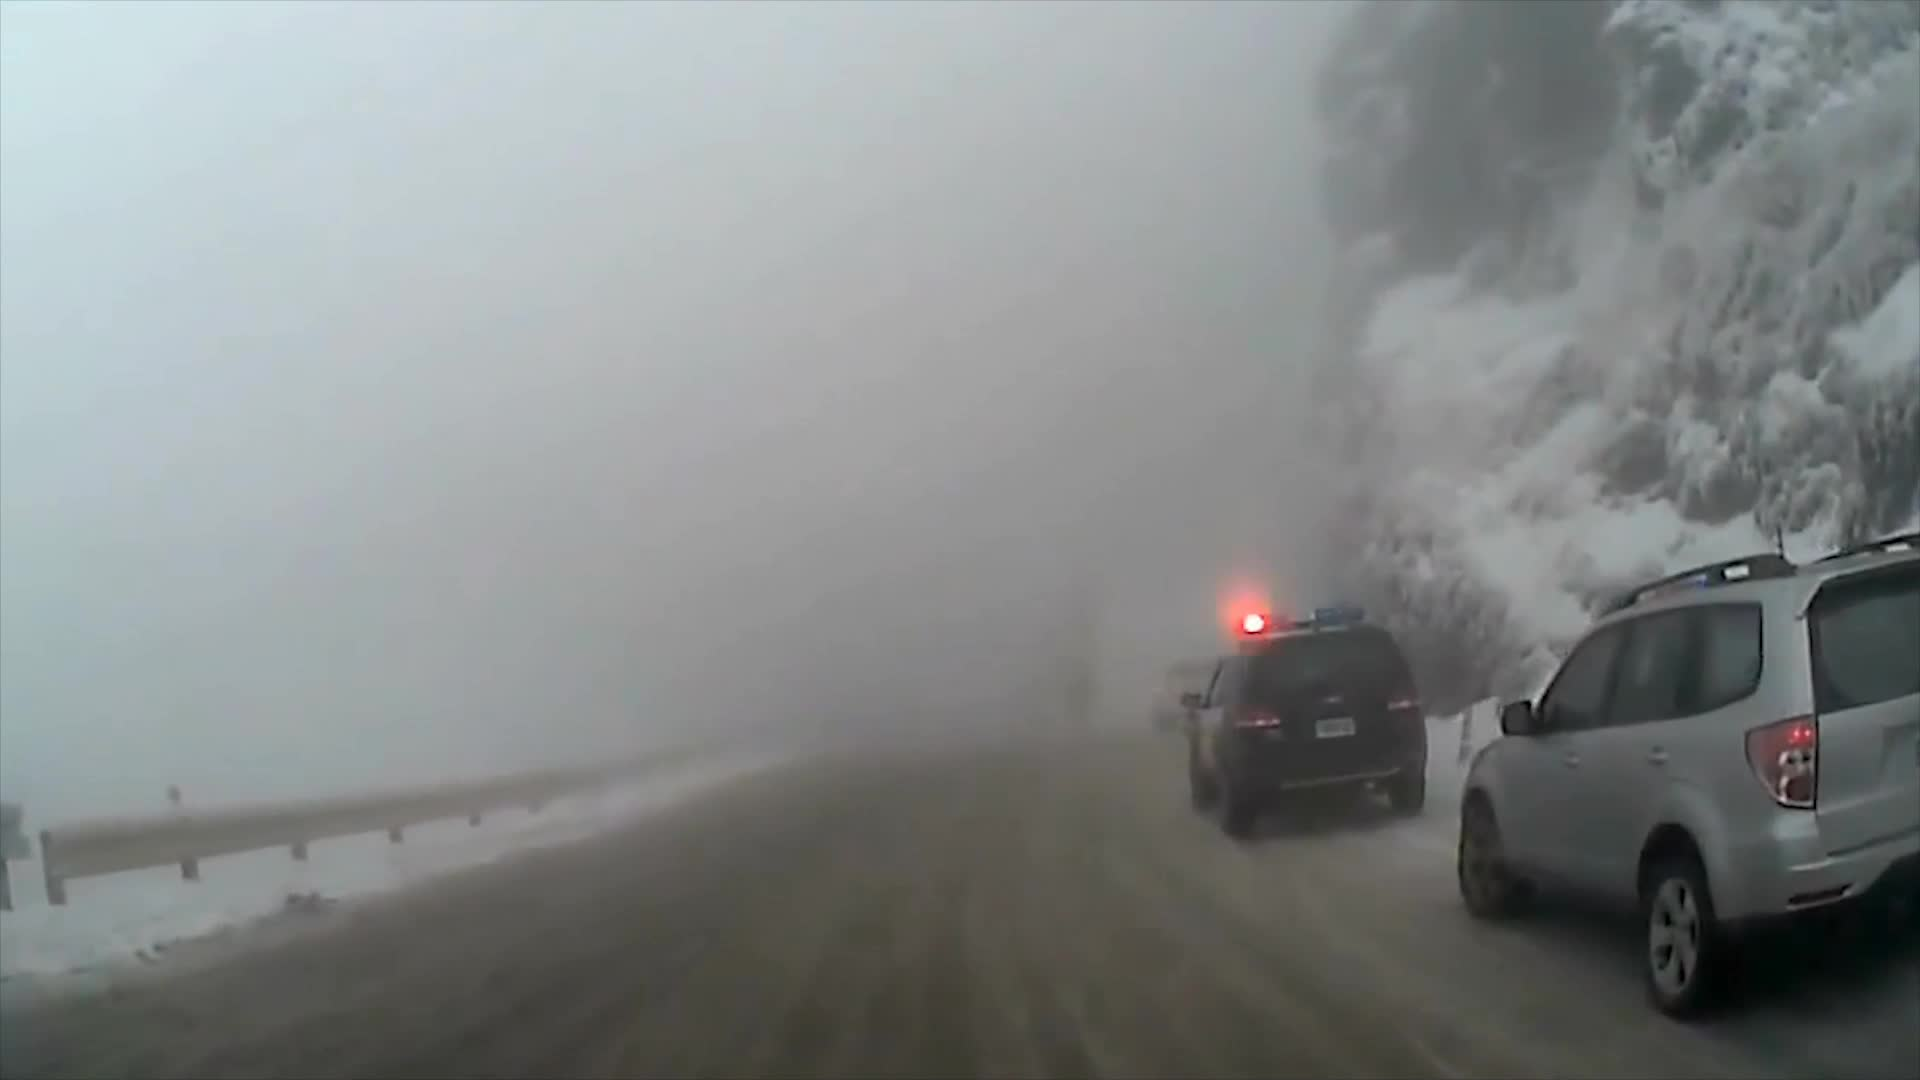vehicle: (1457, 527, 1920, 1017), (1178, 601, 1427, 840)
